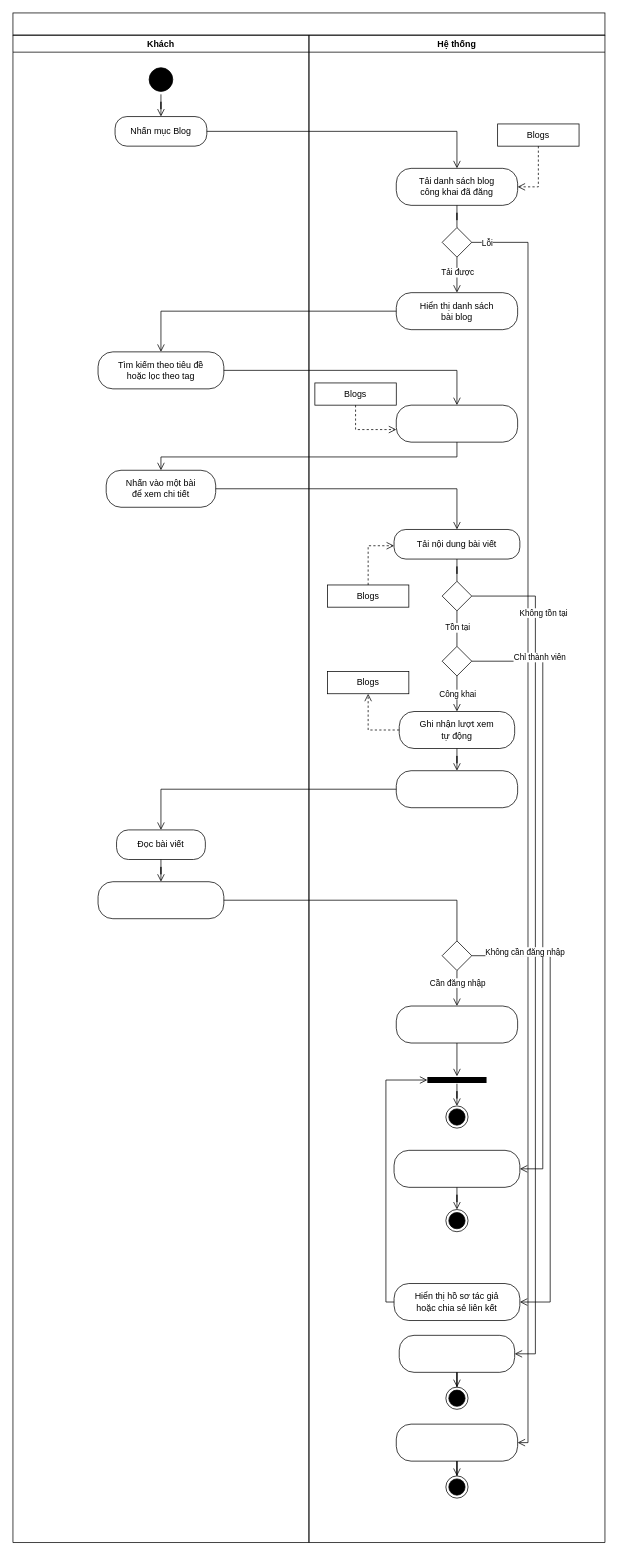
Some shapes in this 618 by 1555 pixel diagram are drawn without their labels. The shapes that lost their labels are listed below. From the top down, each one's box as (x1, y1, x2, y2) in pixels, then its label:
(12, 12, 605, 35): XEM BLOG
(396, 404, 518, 442): Cập nhật danh sách phù hợp
(396, 770, 518, 808): Hiển thị nội dung, tác giả, bình luận và bài liên quan
(97, 881, 224, 919): Xem hồ sơ tác giả hoặc chia sẻ liên kết hoặc thao tác cần đăng nhập
(396, 1005, 518, 1043): Chuyển hướng sang màn hình đăng nhập
(393, 1150, 520, 1187): Hiển thị lỗi 403 chỉ dành cho thành viên
(398, 1335, 515, 1372): Hiển thị lỗi 404 bài không tồn tại
(396, 1423, 518, 1461): Hiển thị thông báo không thể tải
